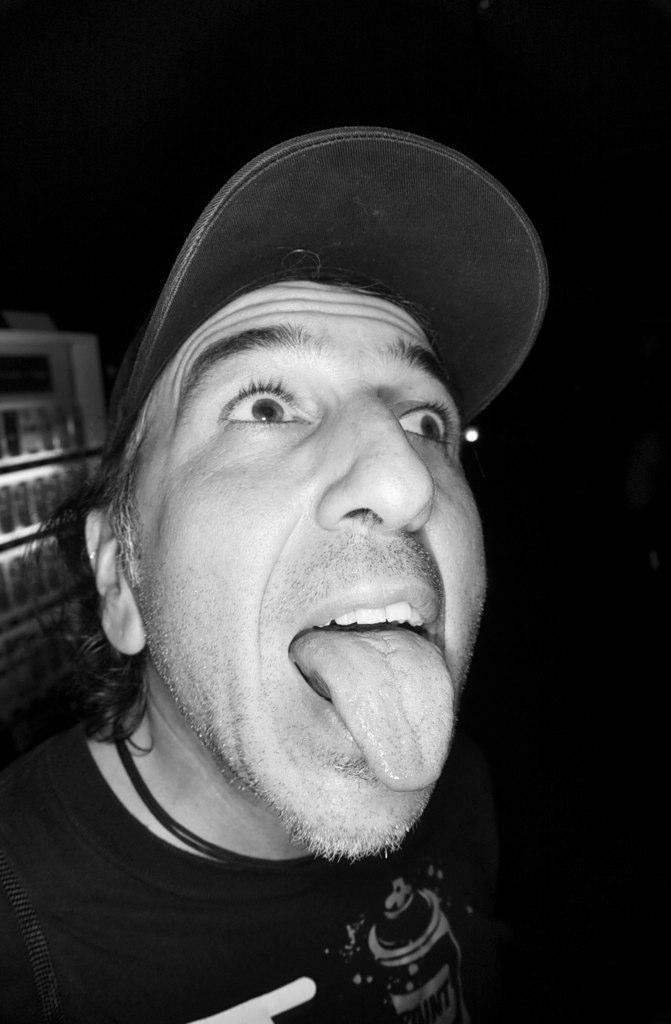Hat: (110, 124, 546, 456)
